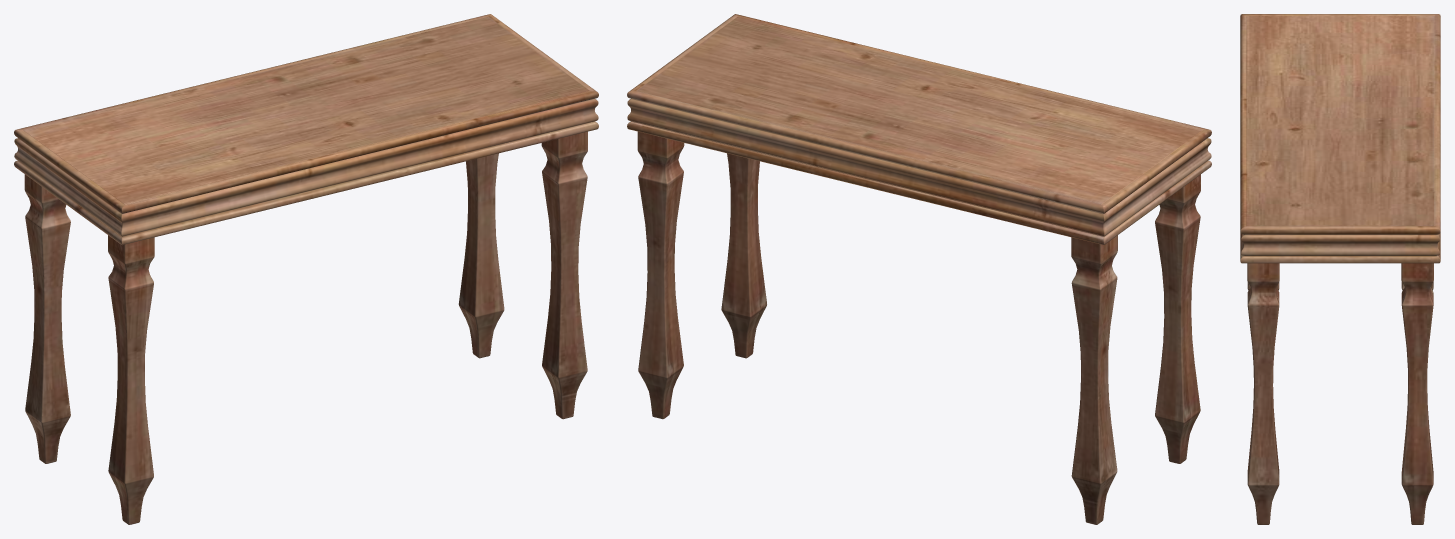
3 renders of one model, left to right at view 1: azimuth 30°, elevation 25°; view 2: azimuth 150°, elevation 25°; view 3: azimuth 270°, elevation 25°, orthographic. The views are drawn at different scales.
Parts seen in each view (by area): view 1: visual_RootNode; view 2: visual_RootNode; view 3: visual_RootNode.
Boxes of the visible parts, x1,y1,x2,y2 form: visual_RootNode: (14, 14, 598, 524); visual_RootNode: (627, 14, 1211, 524); visual_RootNode: (1240, 14, 1440, 524).
Bounding box in the file's own units: 1.33 × 0.5218 × 0.8734.
1 material, 1 textured.
